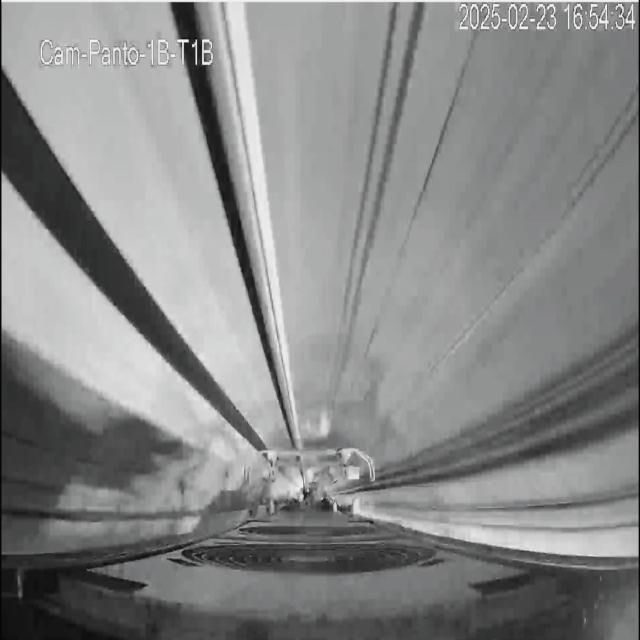Camera Stamp: (36, 30, 216, 70)
Date Stamp: (456, 2, 632, 33)
